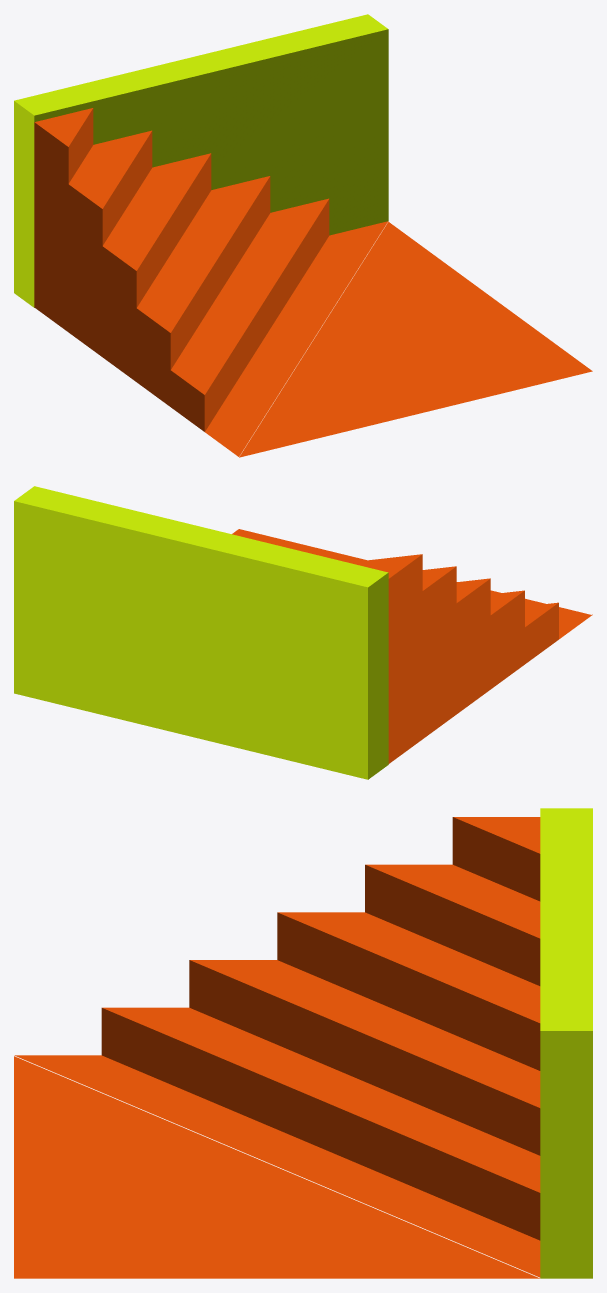
3 views of the same model, one above another, from view 1: azimuth 30°, elevation 25°; view 2: azimuth 150°, elevation 25°; view 3: azimuth 270°, elevation 25° (orthographic). The views are drawn at different scales.
Visible parts, largest first — view 1: T_2_7_0; view 2: T_2_7_0; view 3: T_2_7_0.
Part boxes in pixels (bbox=[...]): T_2_7_0: bbox=[14, 14, 592, 457]; T_2_7_0: bbox=[14, 486, 592, 779]; T_2_7_0: bbox=[14, 808, 592, 1278].
Bounding box in the file's own units: 99.81 × 51.83 × 110.
